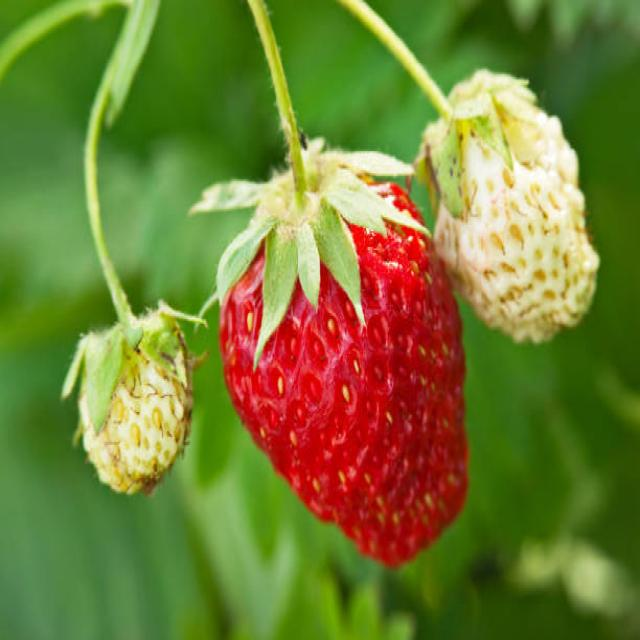Healthy Fruit: (220, 183, 469, 567)
